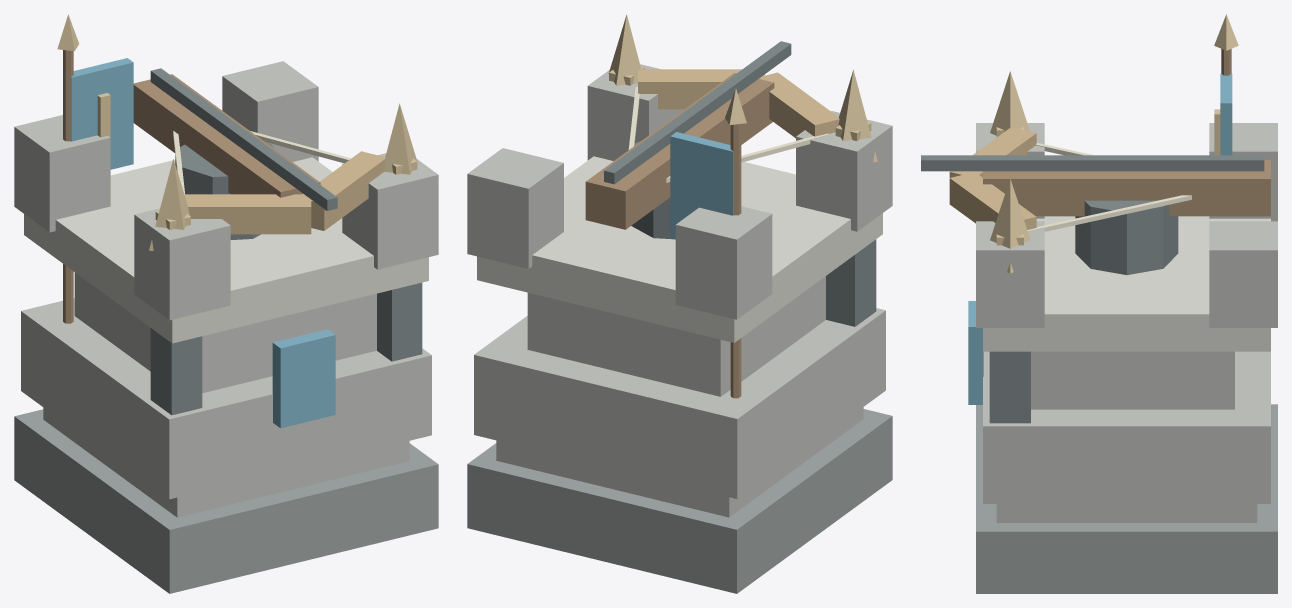
Rendered from human_crossbow_t5.glb.
3 views of the same model, side by side, from view 1: azimuth 30°, elevation 25°; view 2: azimuth 150°, elevation 25°; view 3: azimuth 270°, elevation 25° (orthographic). The views are drawn at different scales.
Visible parts, largest first — view 1: human_crossbow_t5_MAT_stone, human_crossbow_t5_MAT_dark, human_crossbow_t5_MAT_light, human_crossbow_t5_MAT_iron, human_crossbow_t5_MAT_blue, human_crossbow_t5_MAT_wood, human_crossbow_t5_MAT_edge, human_crossbow_t5_MAT_gold, human_crossbow_t5_MAT_white; view 2: human_crossbow_t5_MAT_stone, human_crossbow_t5_MAT_dark, human_crossbow_t5_MAT_light, human_crossbow_t5_MAT_wood, human_crossbow_t5_MAT_iron, human_crossbow_t5_MAT_edge, human_crossbow_t5_MAT_blue, human_crossbow_t5_MAT_gold, human_crossbow_t5_MAT_white; view 3: human_crossbow_t5_MAT_stone, human_crossbow_t5_MAT_dark, human_crossbow_t5_MAT_light, human_crossbow_t5_MAT_iron, human_crossbow_t5_MAT_wood, human_crossbow_t5_MAT_gold, human_crossbow_t5_MAT_edge, human_crossbow_t5_MAT_blue, human_crossbow_t5_MAT_white.
Part boxes in pixels (x1=…): human_crossbow_t5_MAT_stone: x1=14, y1=61, x2=438, y2=517; human_crossbow_t5_MAT_dark: x1=14, y1=409, x2=438, y2=593; human_crossbow_t5_MAT_light: x1=24, y1=157, x2=428, y2=343; human_crossbow_t5_MAT_iron: x1=150, y1=68, x2=422, y2=415; human_crossbow_t5_MAT_blue: x1=71, y1=58, x2=335, y2=428; human_crossbow_t5_MAT_wood: x1=63, y1=50, x2=320, y2=323; human_crossbow_t5_MAT_edge: x1=184, y1=151, x2=385, y2=234; human_crossbow_t5_MAT_gold: x1=57, y1=14, x2=417, y2=250; human_crossbow_t5_MAT_white: x1=173, y1=131, x2=350, y2=194; human_crossbow_t5_MAT_stone: x1=467, y1=64, x2=892, y2=517; human_crossbow_t5_MAT_dark: x1=467, y1=409, x2=892, y2=593; human_crossbow_t5_MAT_light: x1=477, y1=156, x2=882, y2=342; human_crossbow_t5_MAT_wood: x1=585, y1=73, x2=774, y2=398; human_crossbow_t5_MAT_iron: x1=604, y1=41, x2=876, y2=326; human_crossbow_t5_MAT_edge: x1=638, y1=69, x2=839, y2=138; human_crossbow_t5_MAT_blue: x1=670, y1=132, x2=733, y2=239; human_crossbow_t5_MAT_gold: x1=608, y1=14, x2=877, y2=162; human_crossbow_t5_MAT_white: x1=628, y1=87, x2=829, y2=182; human_crossbow_t5_MAT_stone: x1=976, y1=123, x2=1277, y2=522; human_crossbow_t5_MAT_dark: x1=976, y1=404, x2=1277, y2=593; human_crossbow_t5_MAT_light: x1=983, y1=216, x2=1270, y2=351; human_crossbow_t5_MAT_iron: x1=921, y1=155, x2=1264, y2=423; human_crossbow_t5_MAT_wood: x1=983, y1=49, x2=1270, y2=216; human_crossbow_t5_MAT_gold: x1=990, y1=14, x2=1238, y2=273; human_crossbow_t5_MAT_edge: x1=949, y1=127, x2=1036, y2=229; human_crossbow_t5_MAT_blue: x1=968, y1=73, x2=1232, y2=404; human_crossbow_t5_MAT_white: x1=1027, y1=143, x2=1191, y2=231.
Bounding box in the file's own units: 0.9 × 1.5 × 1.04.
